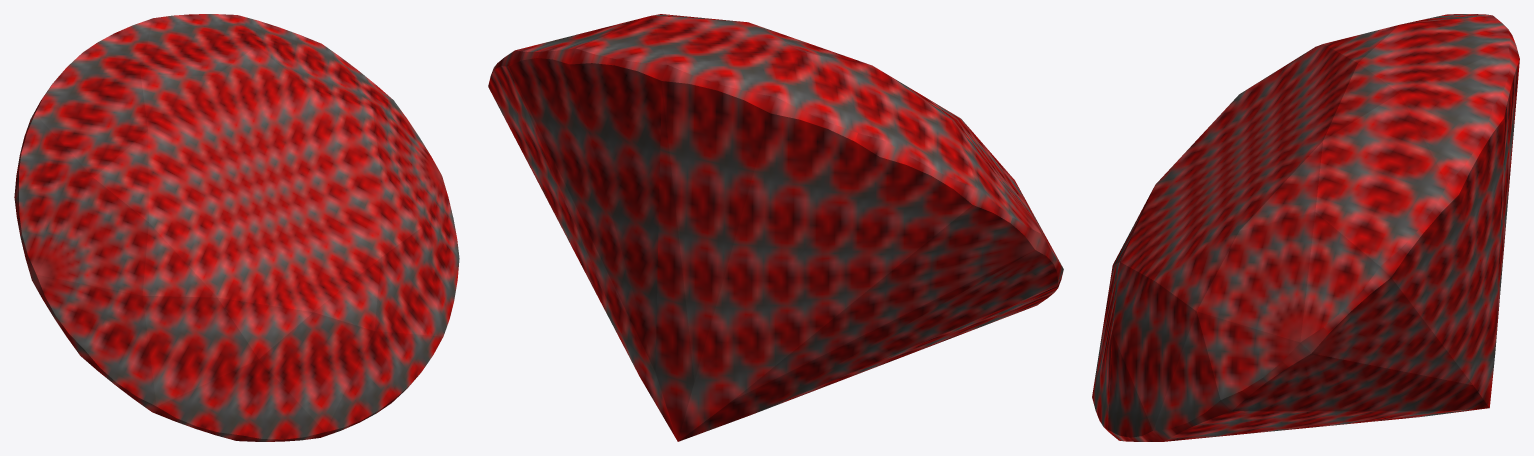
The model's file is Diamond2.glb.
The picture shows the model from 3 angles, left to right: view 1: azimuth 30°, elevation 25°; view 2: azimuth 150°, elevation 25°; view 3: azimuth 270°, elevation 25°; orthographic projection. The views are drawn at different scales.
Visible parts, largest first — view 1: 1.5mm Rd Stone(21D66F82-45F8-468D-9737-497C5D72D98E); view 2: 1.5mm Rd Stone(21D66F82-45F8-468D-9737-497C5D72D98E); view 3: 1.5mm Rd Stone(21D66F82-45F8-468D-9737-497C5D72D98E).
Part boxes in pixels (bbox=[...]): 1.5mm Rd Stone(21D66F82-45F8-468D-9737-497C5D72D98E): bbox=[14, 14, 459, 441]; 1.5mm Rd Stone(21D66F82-45F8-468D-9737-497C5D72D98E): bbox=[488, 14, 1063, 441]; 1.5mm Rd Stone(21D66F82-45F8-468D-9737-497C5D72D98E): bbox=[1092, 14, 1519, 441].
Bounding box in the file's own units: 0.01 × 0.007 × 0.00754.
1 material, 1 textured.
